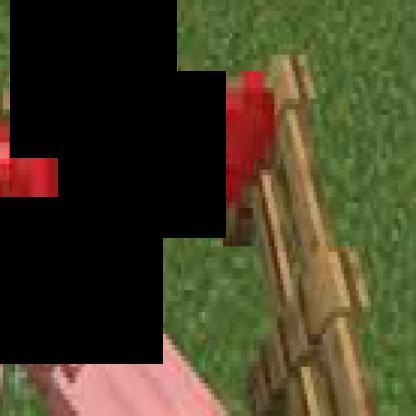minecraft-pigs: (9, 197, 308, 411), (0, 224, 18, 410)
